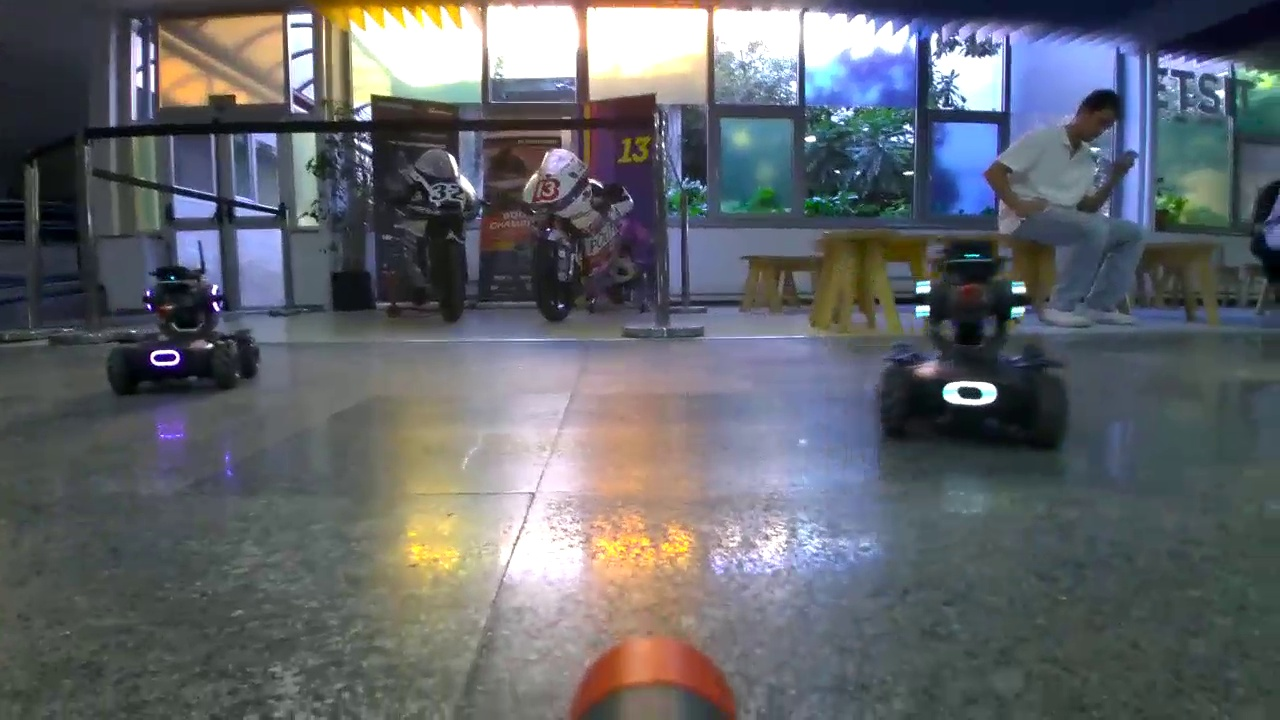robot: (878, 245, 1068, 445), (105, 262, 258, 395)
